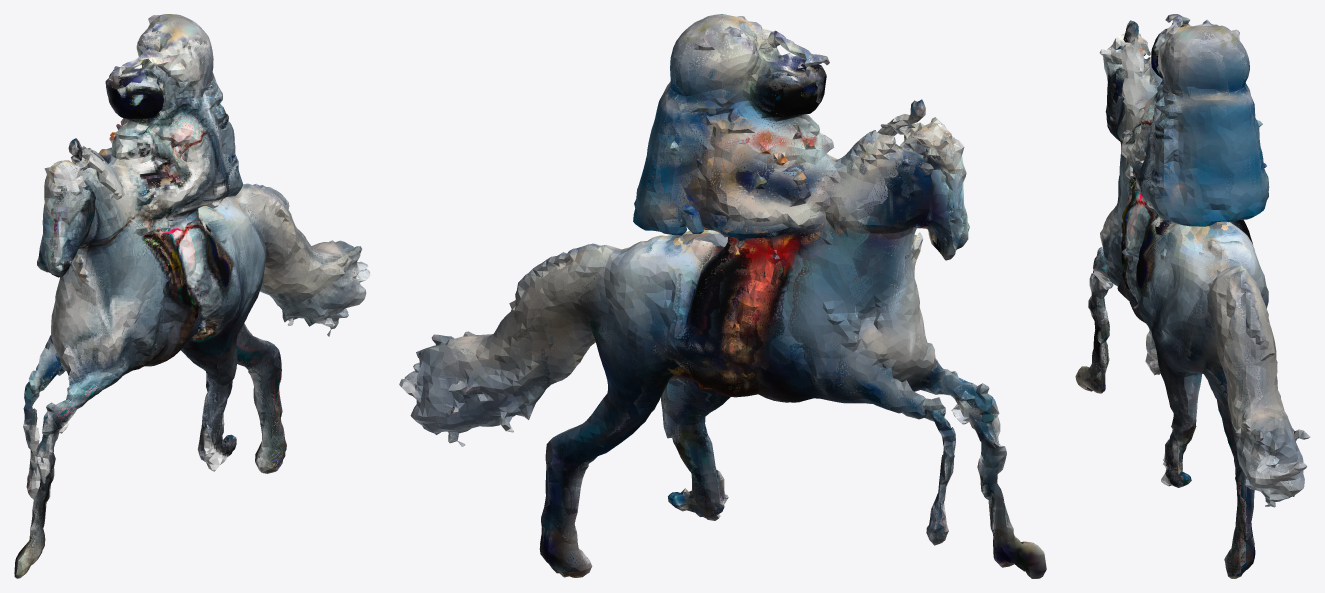
Rendered from astronaut_003.glb.
3 renders of one model, left to right at view 1: azimuth 30°, elevation 25°; view 2: azimuth 150°, elevation 25°; view 3: azimuth 270°, elevation 25°, orthographic. The views are drawn at different scales.
Size of the model in its own units: 1.36 by 1.42 by 0.6095.
Materials: 1 (1 with a texture image).
